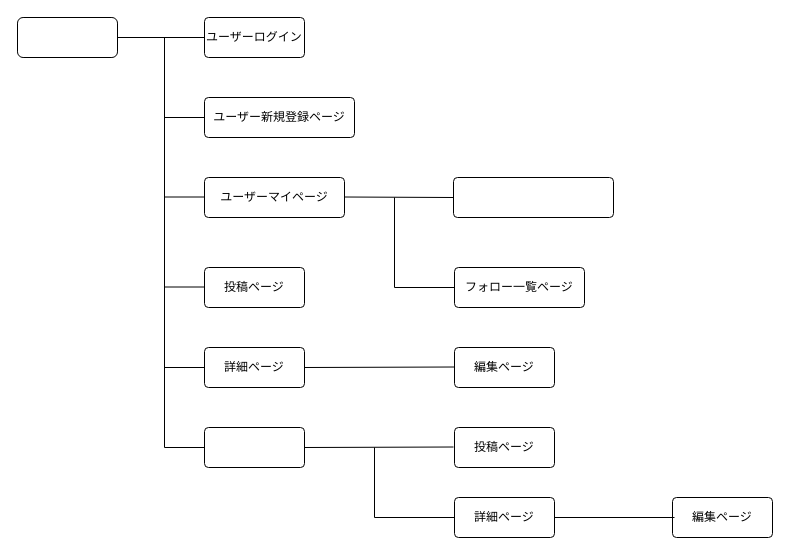
The diagram is 790 pixels wide and 555 high, and some of its shapes have lost their labels. The shapes that lost their labels are listed below. From the top down, each one's centre as x and y in pixels, then its label:
At point (67, 37): "一覧ページ".
At point (533, 197): "フォロワー一覧ページ".
At point (254, 447): "ルームページ".
